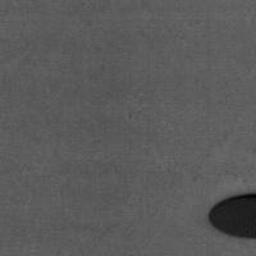Punching: (208, 193, 256, 239)
